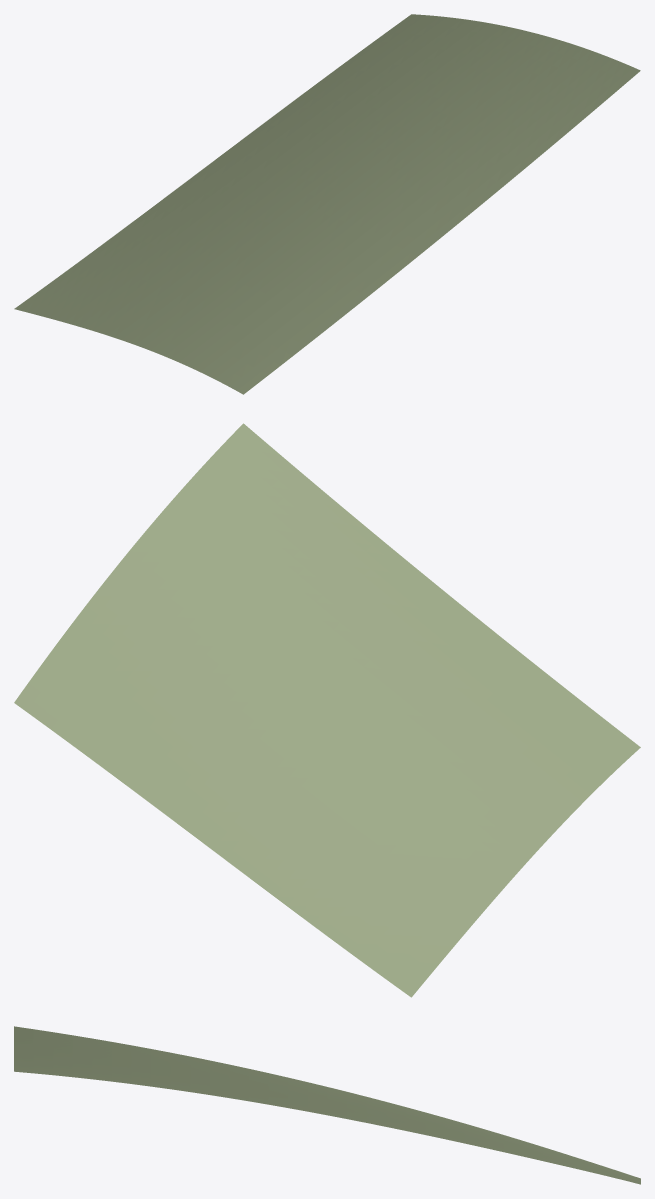
File: alpine-5-5.glb
3 renders of one model, top to bottom at view 1: azimuth 30°, elevation 25°; view 2: azimuth 150°, elevation 25°; view 3: azimuth 270°, elevation 25°, orthographic. The views are drawn at different scales.
Parts seen in each view (by area): view 1: alpine-5-5; view 2: alpine-5-5; view 3: alpine-5-5.
Boxes of the visible parts, left/top/right/bottom form: alpine-5-5: left=14, top=14, right=640, bottom=394; alpine-5-5: left=14, top=423, right=640, bottom=997; alpine-5-5: left=14, top=1026, right=640, bottom=1184.
Size of the model in its own units: 256 by 190 by 256.
